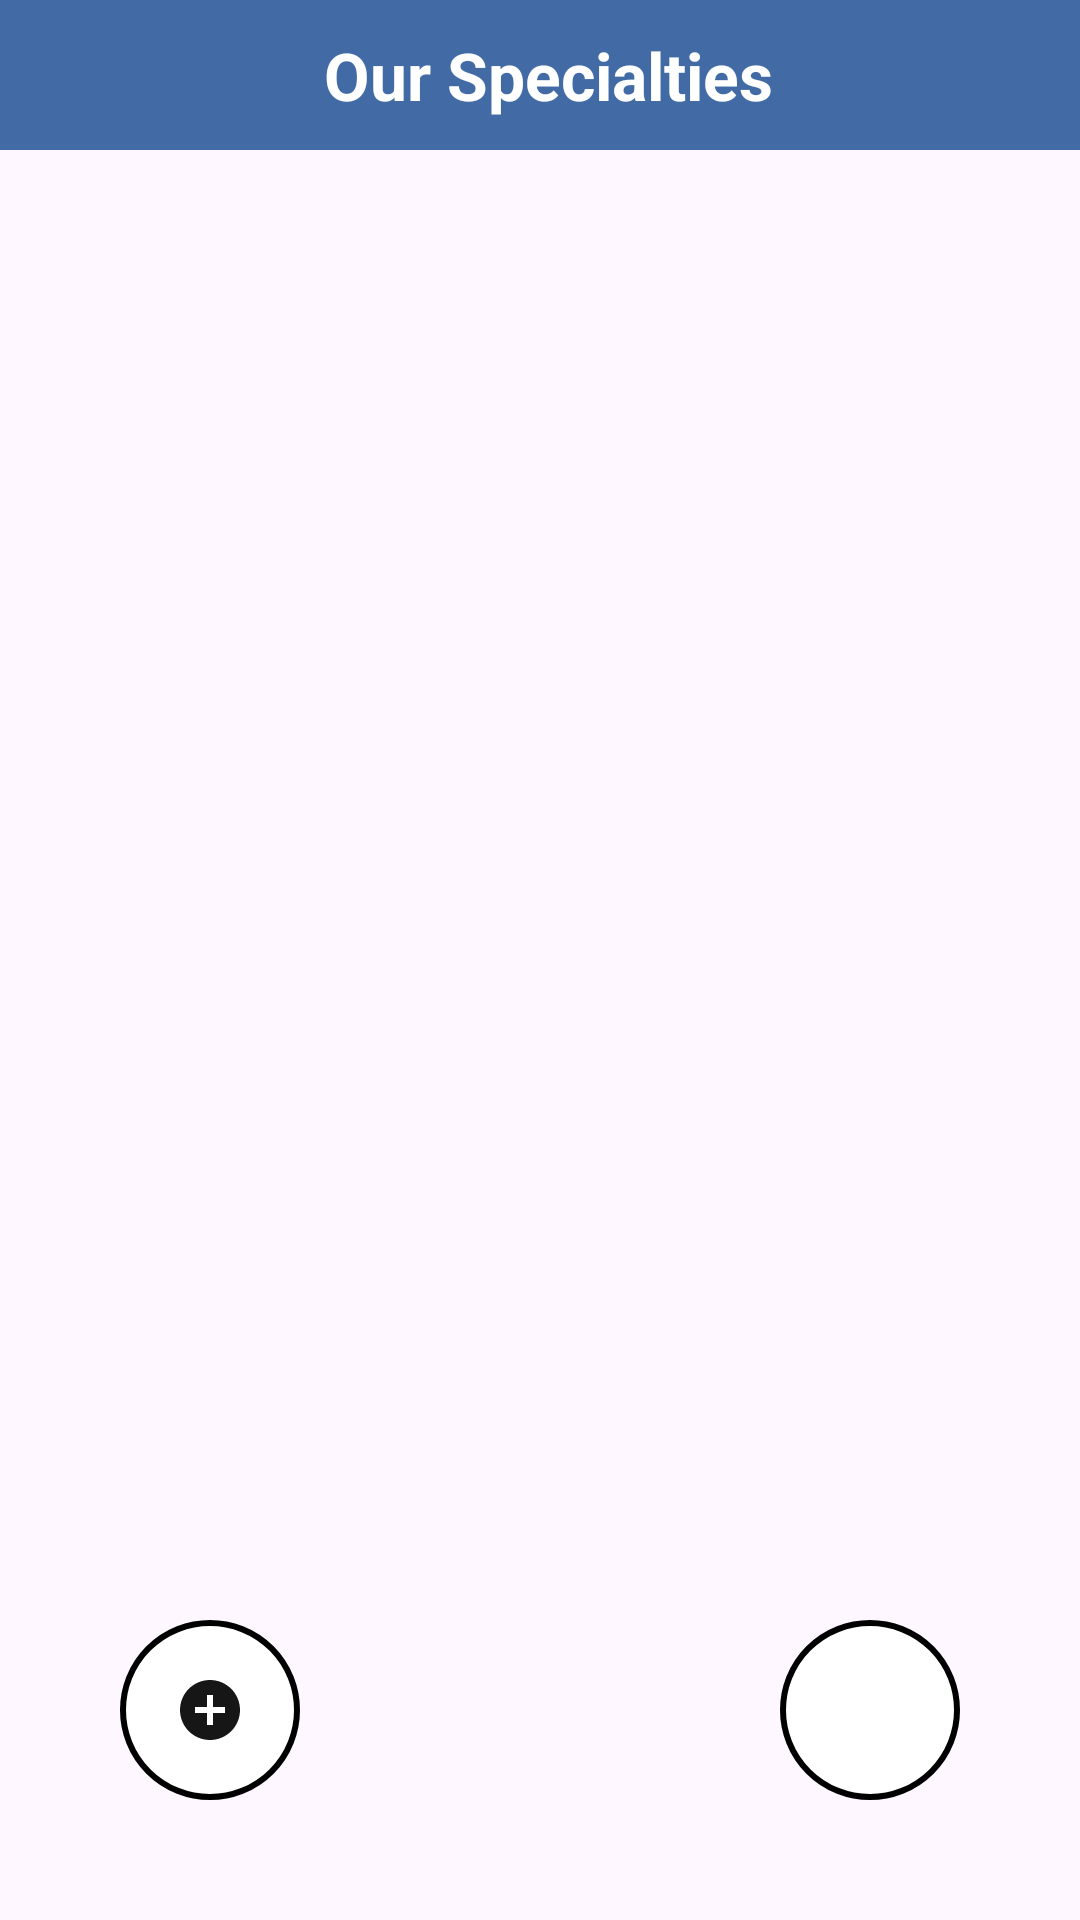

Named icons in this screenshot (1080w x 1920h) and their centers, (x,y):
add: (210,1710)
